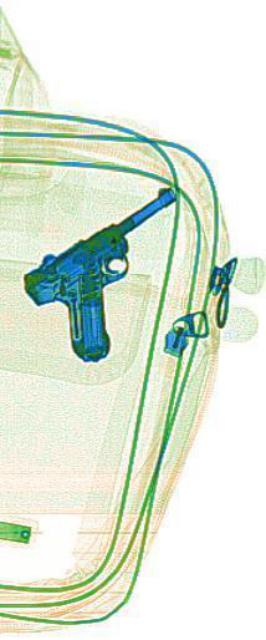Gun: (19, 177, 188, 395)
